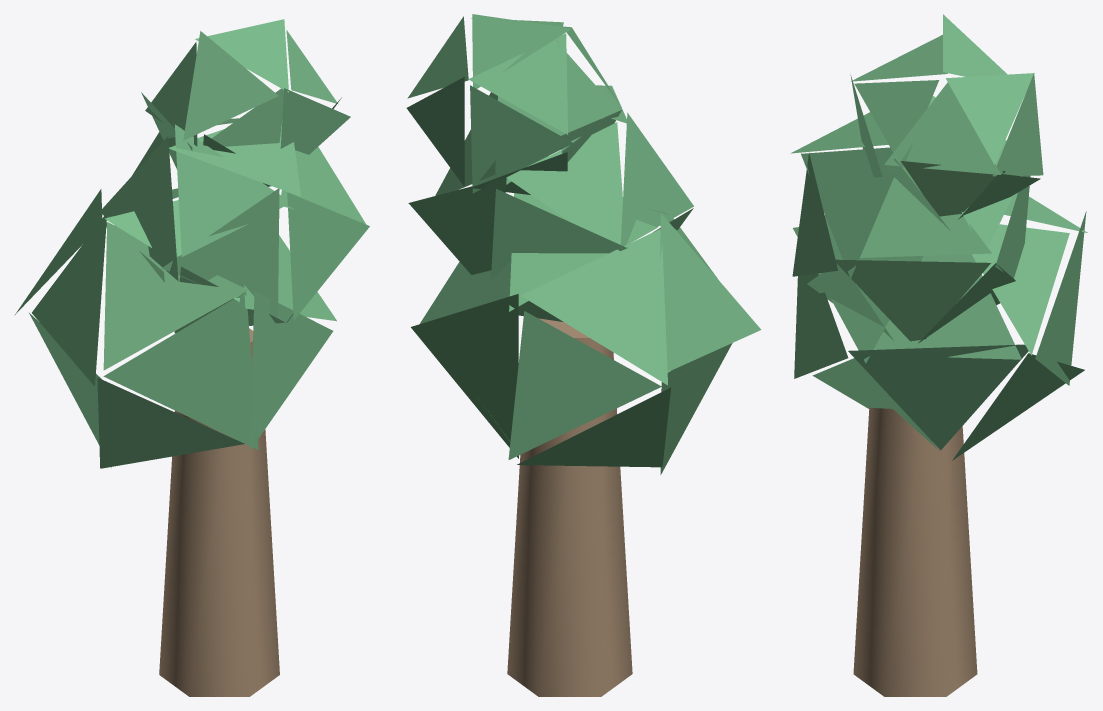
File: tree_round_1.glb
3 renders of one model, left to right at view 1: azimuth 30°, elevation 25°; view 2: azimuth 150°, elevation 25°; view 3: azimuth 270°, elevation 25°, orthographic. The views are drawn at different scales.
Parts seen in each view (by area): view 1: tree_round_1; view 2: tree_round_1; view 3: tree_round_1.
Part boxes in pixels (left/top/right/bottom): tree_round_1: left=14, top=19, right=369, bottom=696; tree_round_1: left=406, top=14, right=761, bottom=696; tree_round_1: left=790, top=14, right=1087, bottom=696.
Size of the model in its own units: 1.1 by 2.44 by 1.01.
